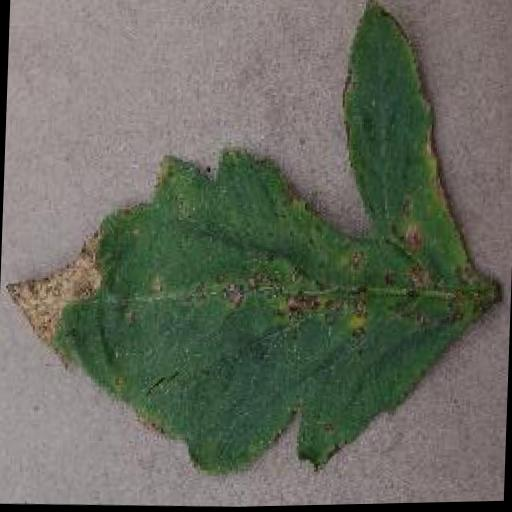Bacterial Spot: (0, 0, 487, 490)
